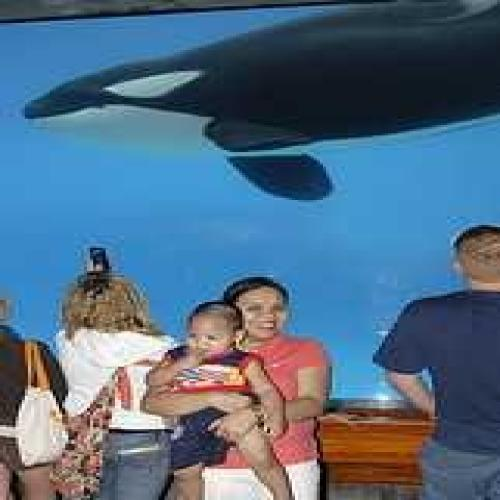killer_whale-endangered: (15, 0, 500, 191)
